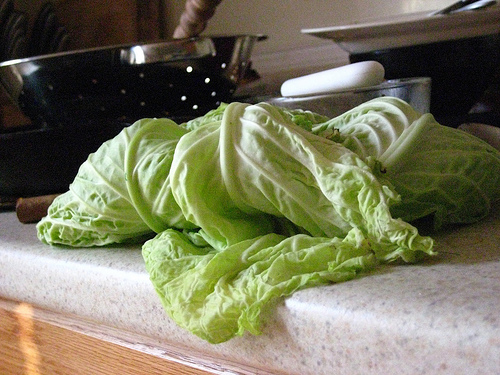cabbage: (38, 97, 499, 344)
